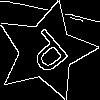P: (21, 26, 78, 83)
